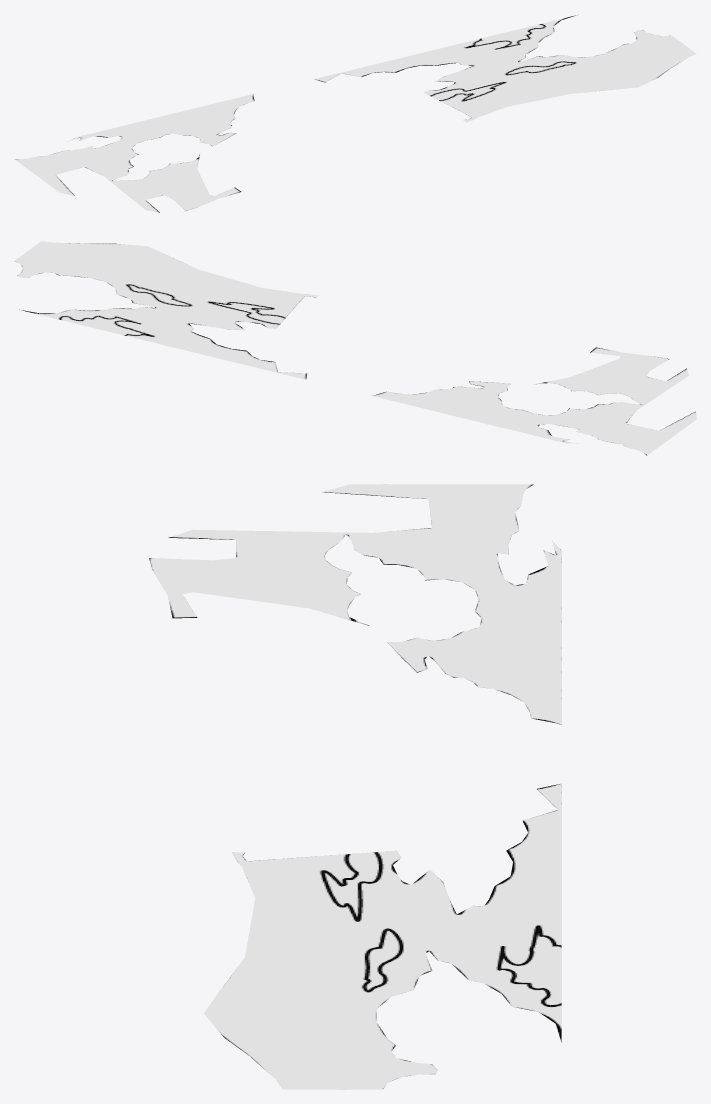
Rendered from FarmSky.fbx.
The picture shows the model from 3 angles, top to bottom: view 1: azimuth 30°, elevation 25°; view 2: azimuth 150°, elevation 25°; view 3: azimuth 270°, elevation 25°; orthographic projection. The views are drawn at different scales.
Visible parts, largest first — view 1: Plane.008; view 2: Plane.008; view 3: Plane.008.
Boxes of the visible parts, box(x1,y1,x2,y2) form: Plane.008: box(14, 14, 696, 212); Plane.008: box(14, 241, 696, 455); Plane.008: box(149, 484, 561, 1089).
Bounding box in the file's own units: 768 × 3.61e-05 × 221.
